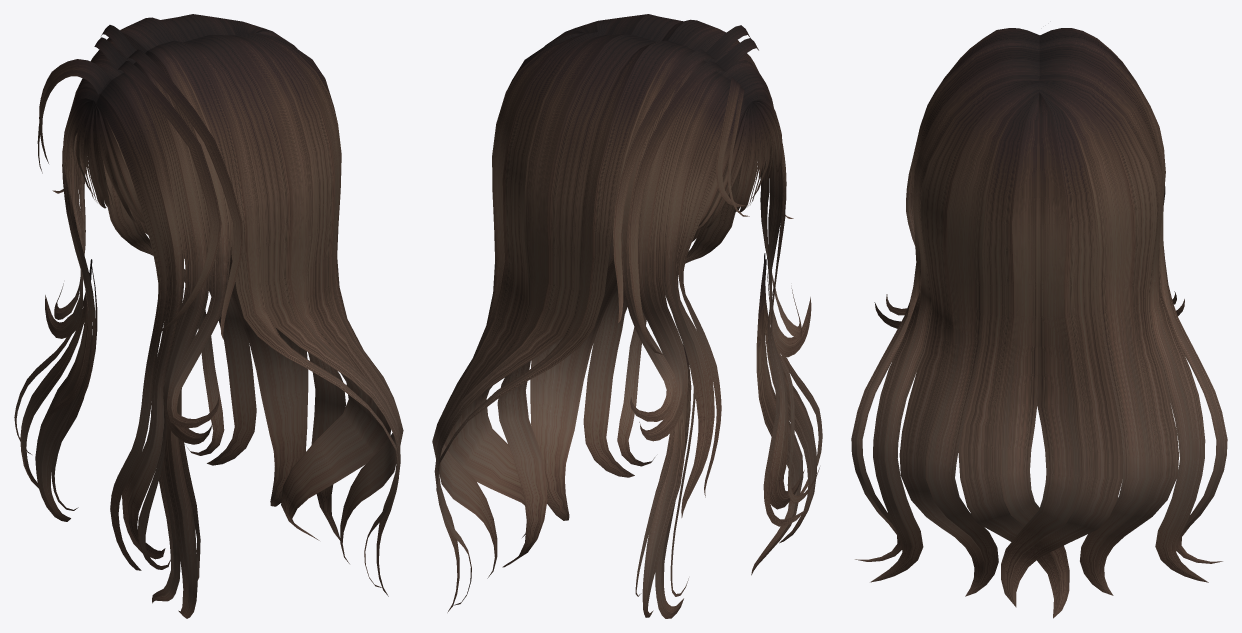
The model's file is 24-Messy-Wavy-IT-Girl-Hair-100884389158278.glb.
3 renders of one model, left to right at view 1: azimuth 30°, elevation 25°; view 2: azimuth 150°, elevation 25°; view 3: azimuth 270°, elevation 25°, orthographic. The views are drawn at different scales.
Parts seen in each view (by area): view 1: 24-Messy-Wavy-IT-Girl-Hair-100884389158278; view 2: 24-Messy-Wavy-IT-Girl-Hair-100884389158278; view 3: 24-Messy-Wavy-IT-Girl-Hair-100884389158278.
Boxes of the visible parts, x1,y1,x2,y2 form: 24-Messy-Wavy-IT-Girl-Hair-100884389158278: [14, 14, 403, 618]; 24-Messy-Wavy-IT-Girl-Hair-100884389158278: [432, 14, 822, 618]; 24-Messy-Wavy-IT-Girl-Hair-100884389158278: [851, 28, 1227, 618].
Bounding box in the file's own units: 1.73 × 3.18 × 2.11.
1 material, 1 textured.
